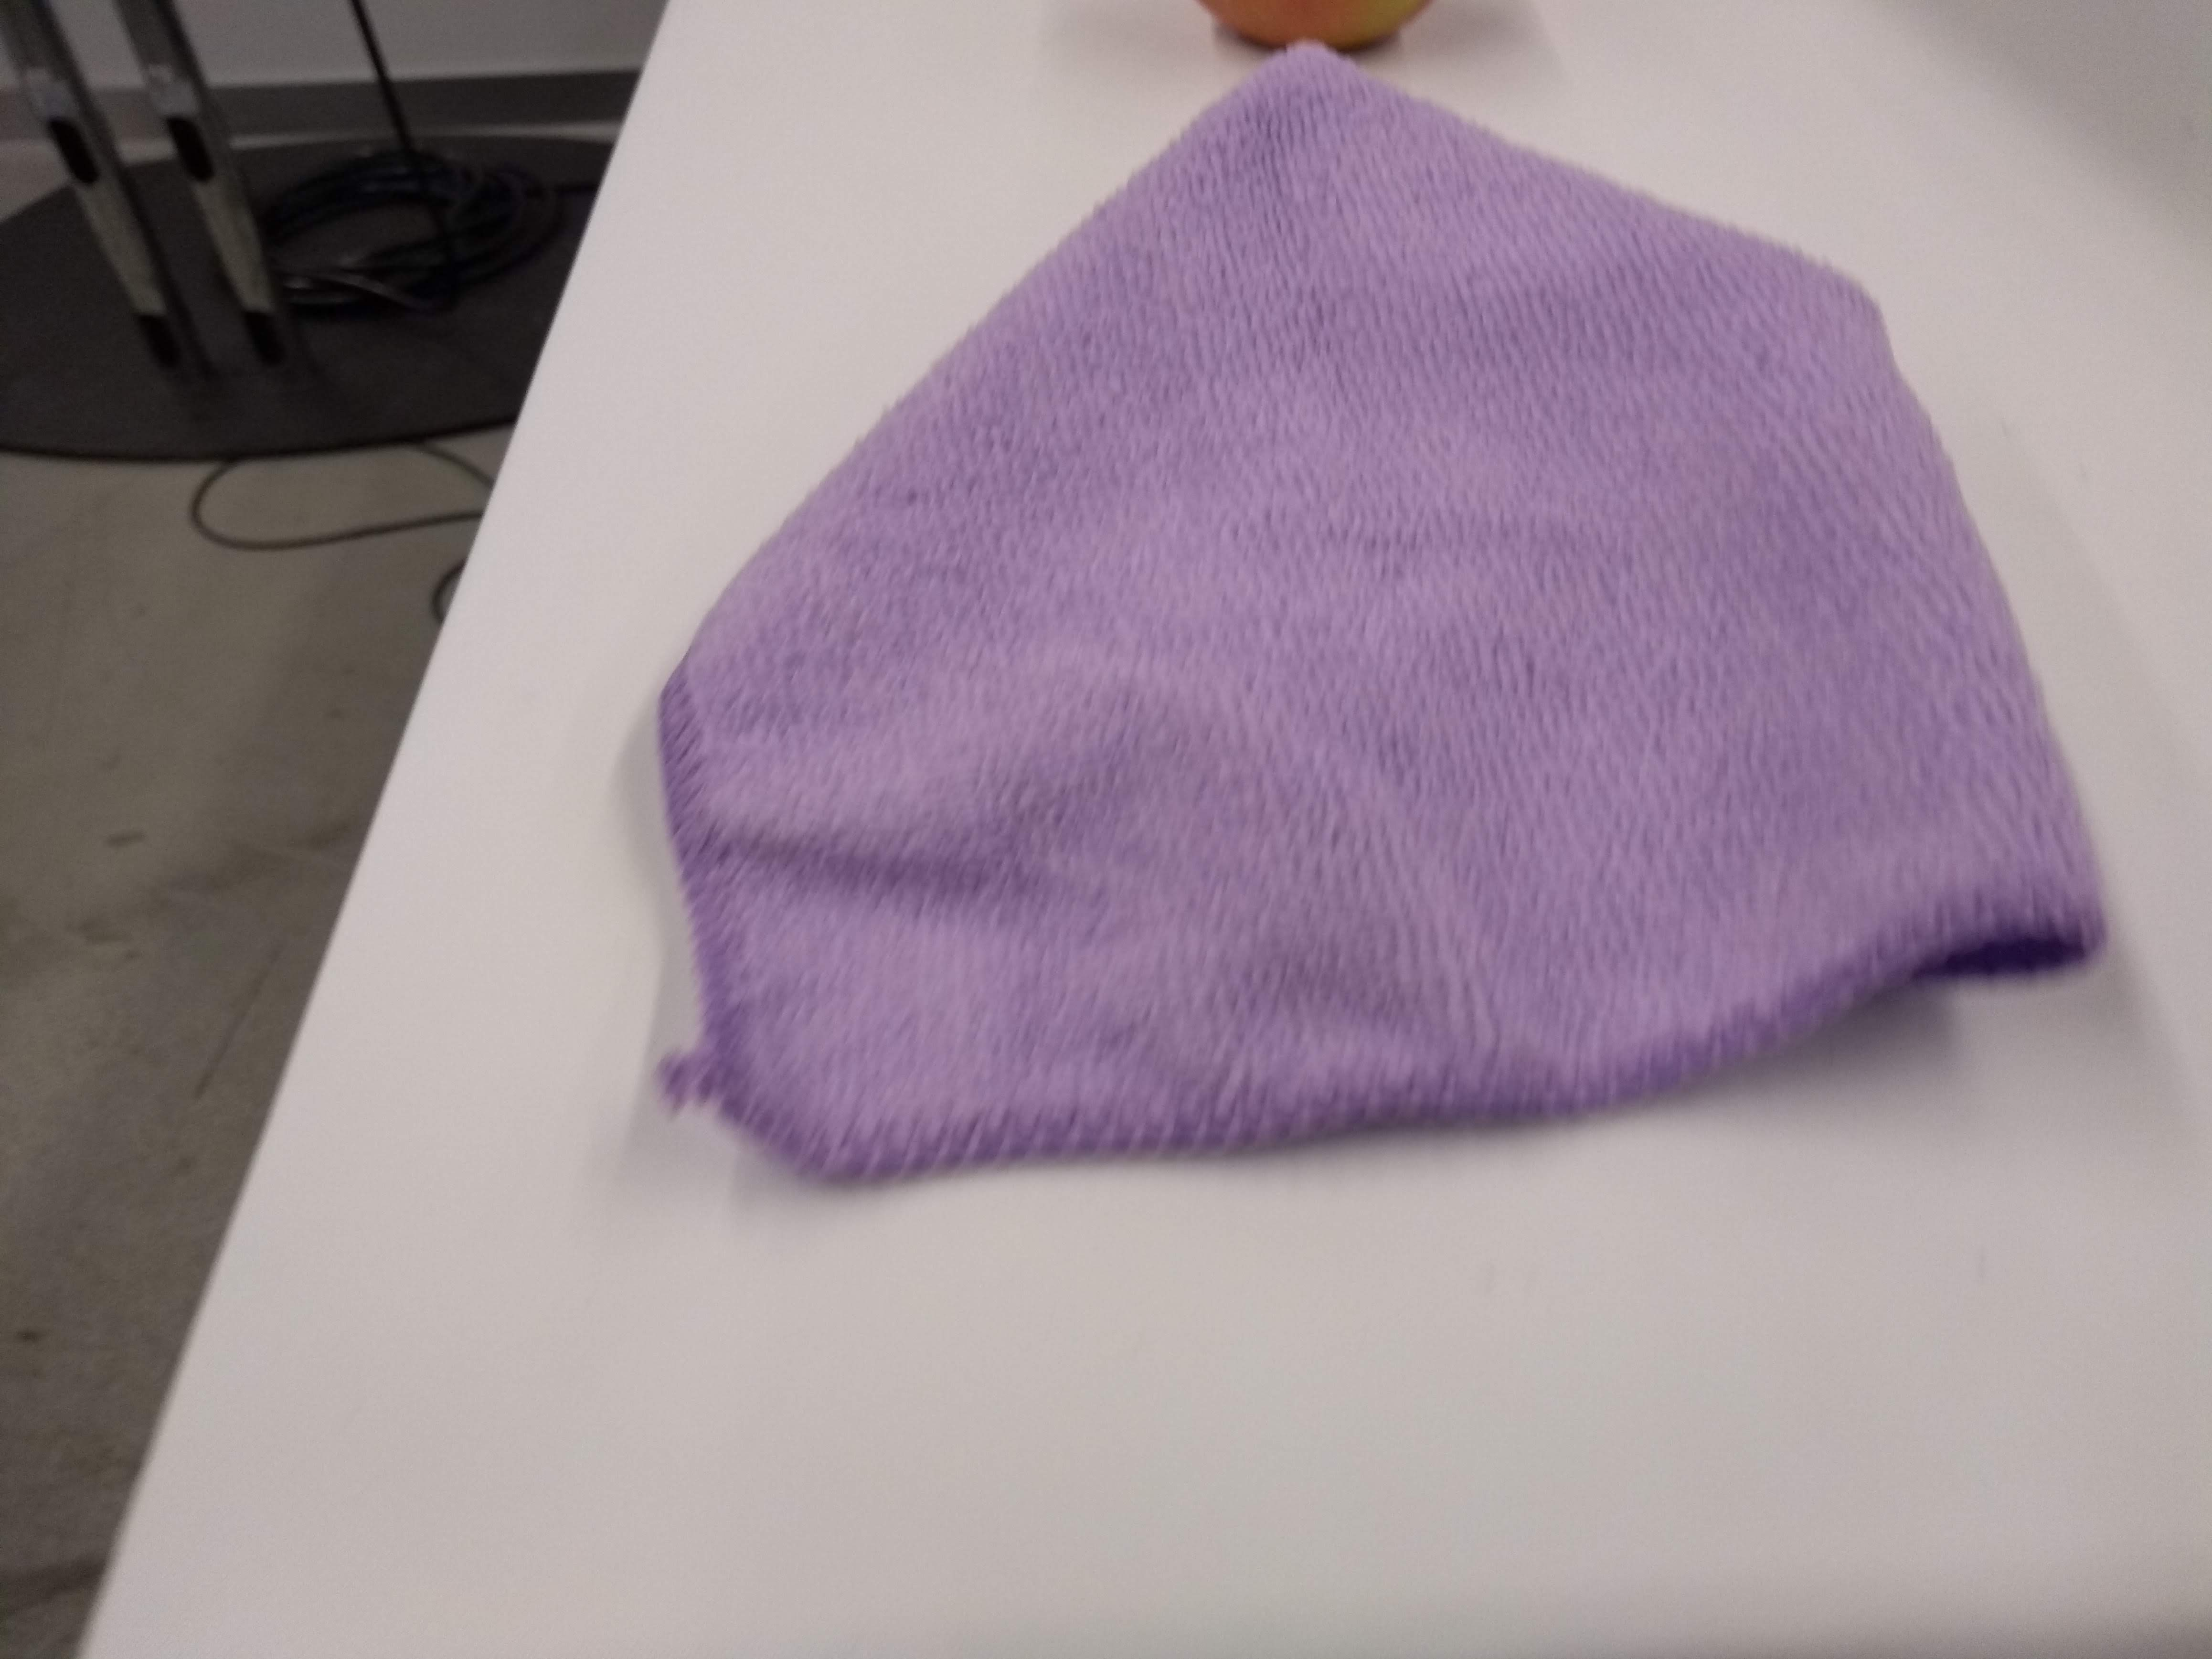cloth_opl: (618, 26, 2168, 1197)
